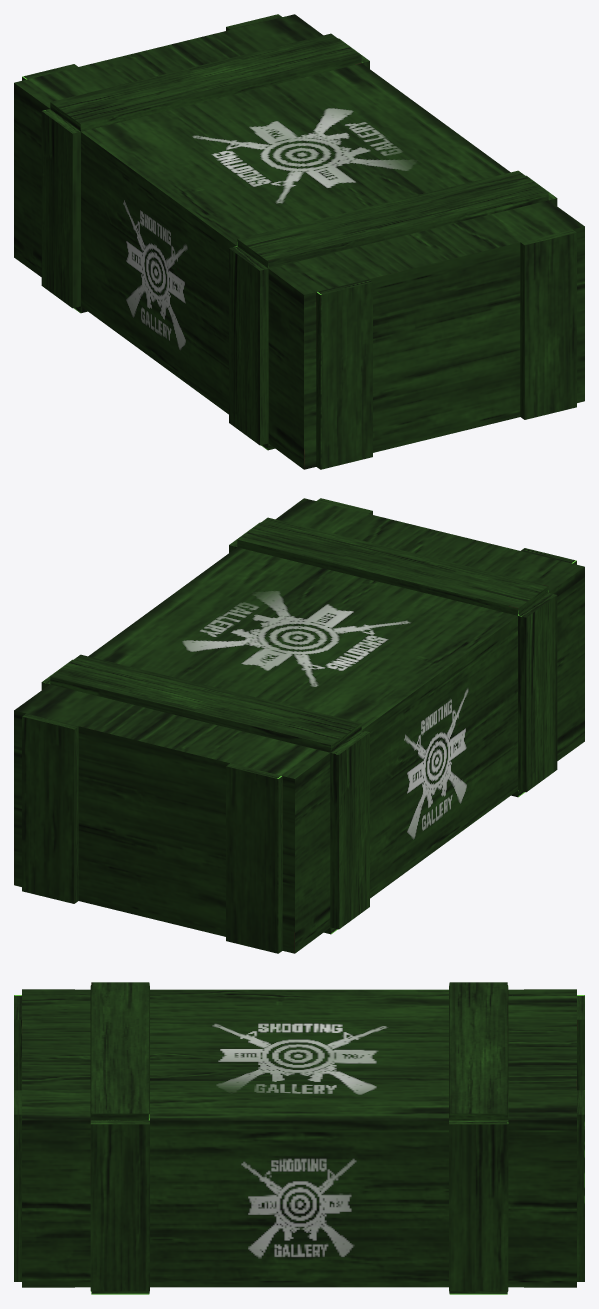
Rendered from CajaMunicion.fbx.
3 views of the same model, one above another, from view 1: azimuth 30°, elevation 25°; view 2: azimuth 150°, elevation 25°; view 3: azimuth 270°, elevation 25° (orthographic). The views are drawn at different scales.
Visible parts, largest first — view 1: Plane.001; view 2: Plane.001; view 3: Plane.001.
Part boxes in pixels (x1,y1,x2,y2): Plane.001: (14, 14, 584, 469); Plane.001: (14, 498, 584, 953); Plane.001: (14, 982, 584, 1294).
Bounding box in the file's own units: 96.57 × 58.67 × 168.
